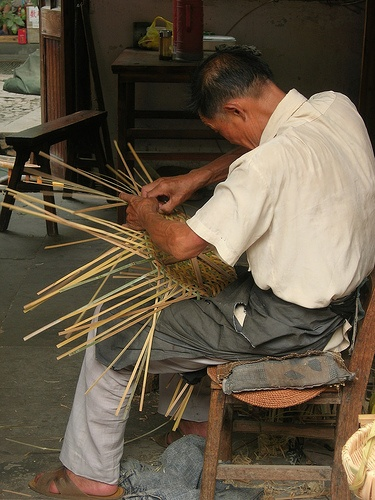head: (194, 47, 289, 152)
person: (32, 31, 367, 500)
